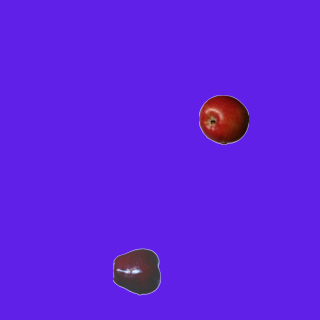Apple Braeburn: (198, 94, 248, 144)
Apple Red Delicious: (112, 246, 162, 296)
